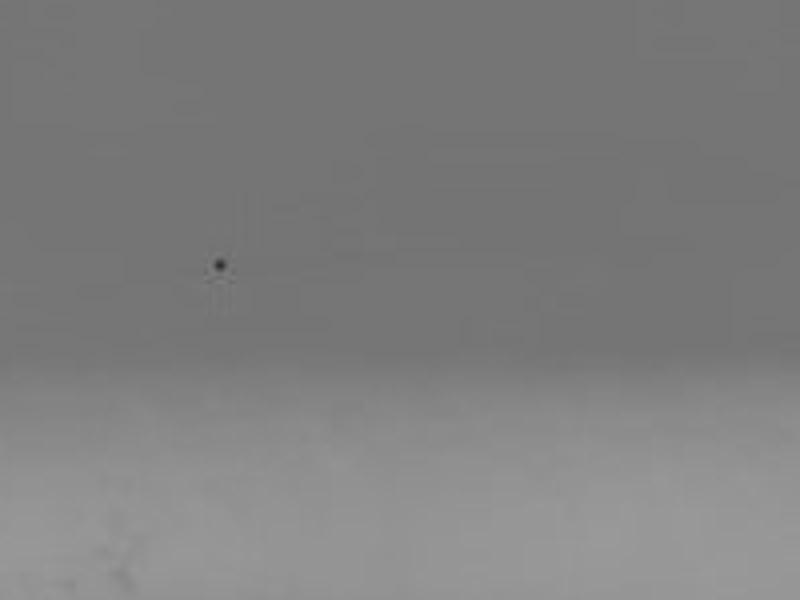defect: (108, 571, 143, 596), (207, 254, 232, 280), (85, 542, 117, 562), (51, 575, 84, 592)
